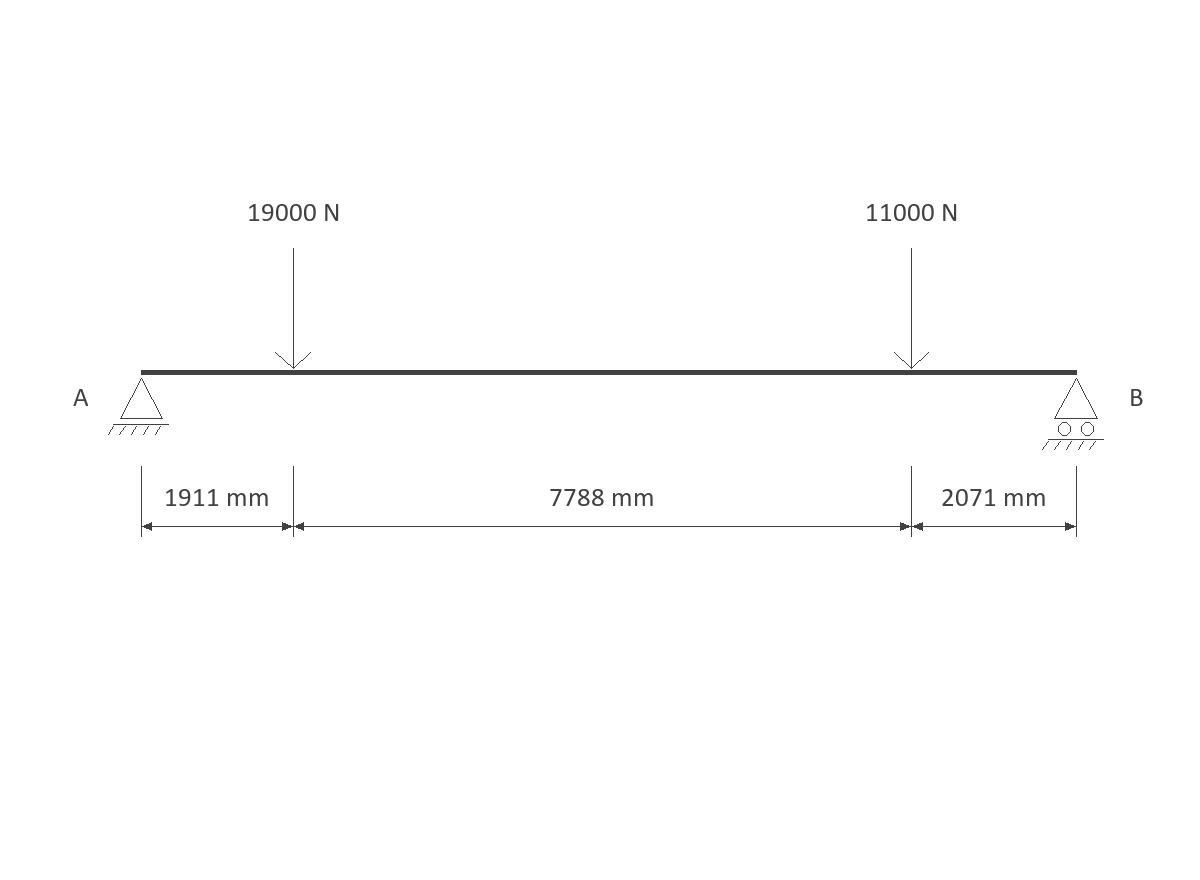pin_support: (108, 378, 169, 435)
point_load: (275, 248, 311, 369), (894, 248, 929, 369)
roller_support: (1042, 378, 1104, 450)
